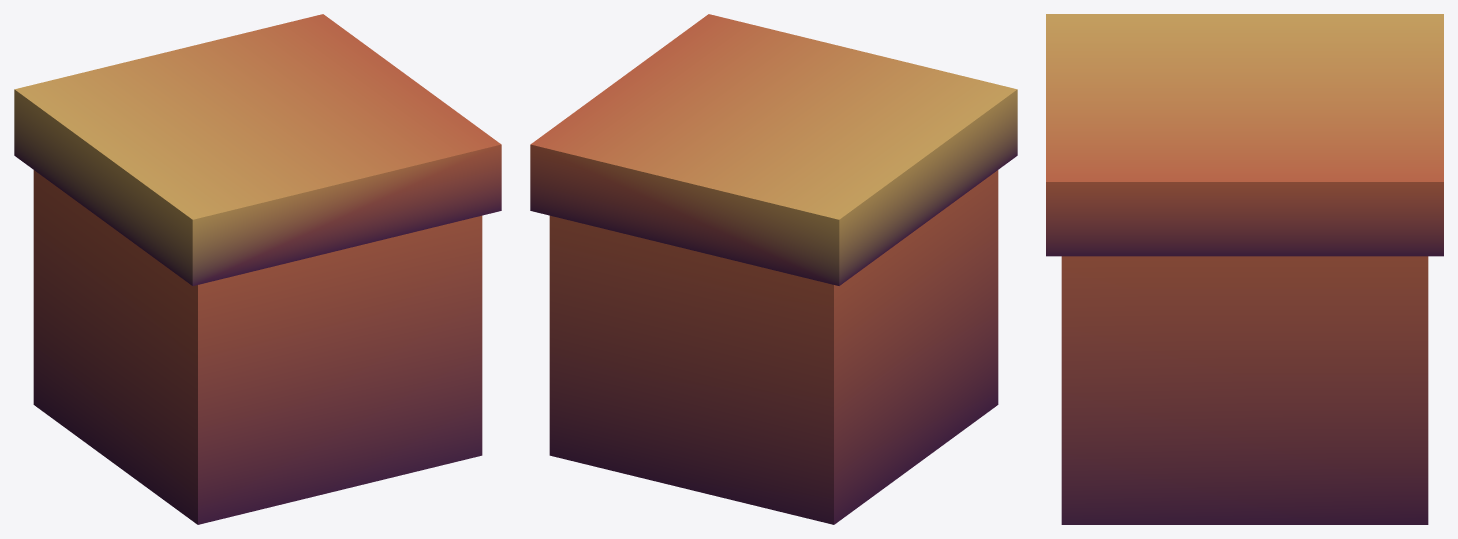
Rendered from food_box.obj.
3 views of the same model, side by side, from view 1: azimuth 30°, elevation 25°; view 2: azimuth 150°, elevation 25°; view 3: azimuth 270°, elevation 25° (orthographic). The views are drawn at different scales.
Visible parts, largest first — view 1: food_box; view 2: food_box; view 3: food_box.
Part boxes in pixels (left/top/right/bottom): food_box: left=14, top=14, right=501, bottom=524; food_box: left=530, top=14, right=1017, bottom=524; food_box: left=1046, top=14, right=1443, bottom=524.
Size of the model in its own units: 2.17 by 2.1 by 2.17.
